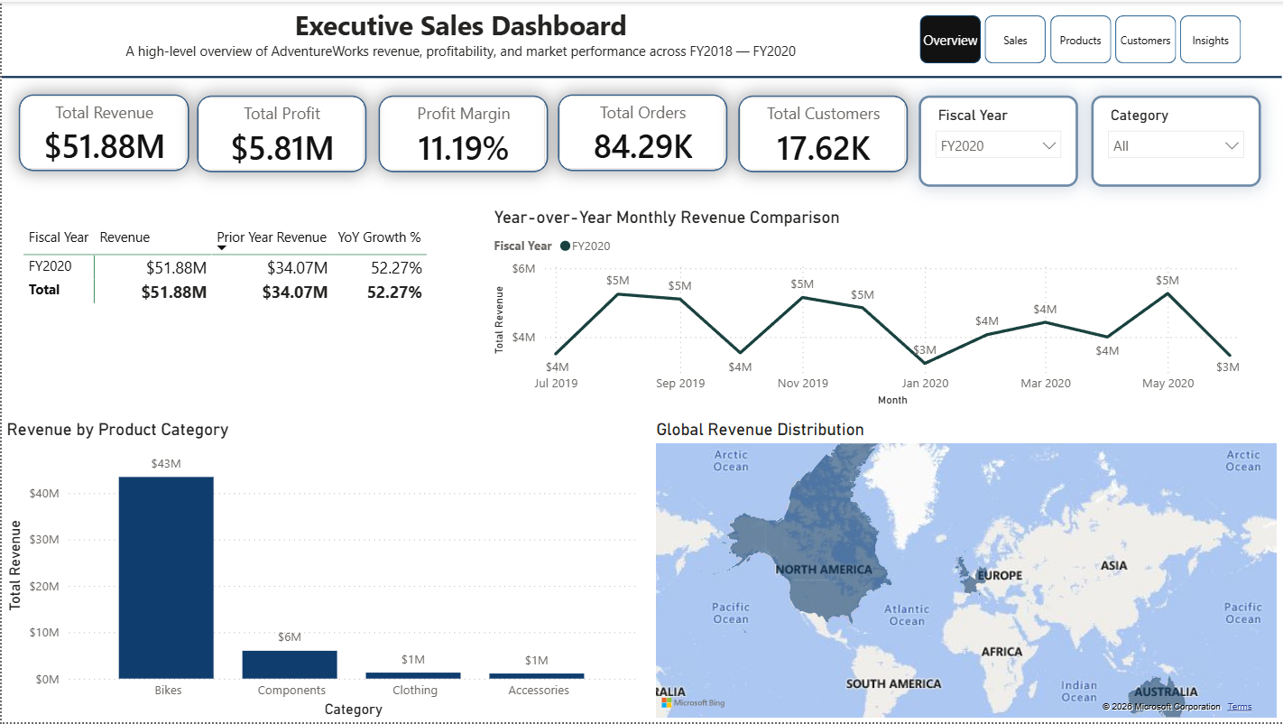

Layout of this report page (visuals, bound fields, positions):
{"tool":"powerbi","page":{"name":"Overview","canvas":[1280,720],"ordinal":0},"visuals":[{"type":"cardVisual","fields":{"Data":["_Measures.Total Revenue"]},"box":[16.7,92.4,170,77],"z":0},{"type":"cardVisual","fields":{"Data":["_Measures.Profit Margin %"]},"box":[376.2,93.7,169.5,77],"z":1000},{"type":"cardVisual","fields":{"Data":["_Measures.Total Profit"]},"box":[195.1,93.7,169.5,77],"z":2000},{"type":"cardVisual","fields":{"Data":["_Measures.Total Orders"]},"box":[555.9,92.4,169.5,77],"z":3000},{"type":"columnChart","title":"Revenue by Product Category","fields":{"Category":["Product.Category"],"Y":["_Measures.Total Revenue"]},"box":[0,417.3,640.6,303],"z":4000},{"type":"filledMap","title":"Global Revenue Distribution","fields":{"Category":["Customer.Country-Region"]},"box":[649.6,417.3,630.4,303],"z":5000},{"type":"lineChart","title":"Year-over-Year Monthly Revenue Comparison","fields":{"Category":["Date.Month"],"Series":["Date.Fiscal Year"],"Y":["_Measures.Total Revenue"]},"box":[486.6,205.4,771.6,204.1],"z":6000},{"type":"slicer","fields":{"Values":["Date.Fiscal Year"]},"box":[916.7,93.7,159.2,91.2],"z":7000},{"type":"cardVisual","fields":{"Data":["_Measures.Total Customers"]},"box":[735.6,93.7,169.5,77],"z":8000},{"type":"textbox","box":[0,0,917.1,75.8],"z":9000},{"type":"shape","box":[0,58.7,1279.1,33],"z":10000},{"type":"slicer","fields":{"Values":["Product.Category"]},"box":[1088.7,93.7,169.5,91.2],"z":11000},{"type":"pivotTable","fields":{"Values":["_Measures.Total Revenue","_Measures.Sales Revenue PYTD","_Measures.Sales YoY Growth %"],"Rows":["Date.Fiscal Year"]},"box":[16.7,218.3,469.9,154.1],"z":12000},{"type":"bookmarkNavigator","box":[917.1,13.5,325.3,48.9],"z":13000}]}

Visuals, with their boxes in screenshot pixels (x1, y1, x2, y2), scaled from the page's 1280x720 canvas onto the 1283x724 screenshot:
cardVisual - _Measures.Total Revenue: bbox=[17, 93, 187, 170]
cardVisual - _Measures.Profit Margin %: bbox=[377, 94, 547, 172]
cardVisual - _Measures.Total Profit: bbox=[196, 94, 365, 172]
cardVisual - _Measures.Total Orders: bbox=[557, 93, 727, 170]
"Revenue by Product Category" columnChart: bbox=[0, 420, 642, 723]
"Global Revenue Distribution" filledMap: bbox=[651, 420, 1282, 723]
"Year-over-Year Monthly Revenue Comparison" lineChart: bbox=[488, 207, 1261, 412]
slicer - Date.Fiscal Year: bbox=[919, 94, 1078, 186]
cardVisual - _Measures.Total Customers: bbox=[737, 94, 907, 172]
textbox: bbox=[0, 0, 919, 76]
shape: bbox=[0, 59, 1282, 92]
slicer - Product.Category: bbox=[1091, 94, 1261, 186]
pivotTable - _Measures.Total Revenue x _Measures.Sales Revenue PYTD: bbox=[17, 220, 488, 374]
bookmarkNavigator: bbox=[919, 14, 1245, 63]
